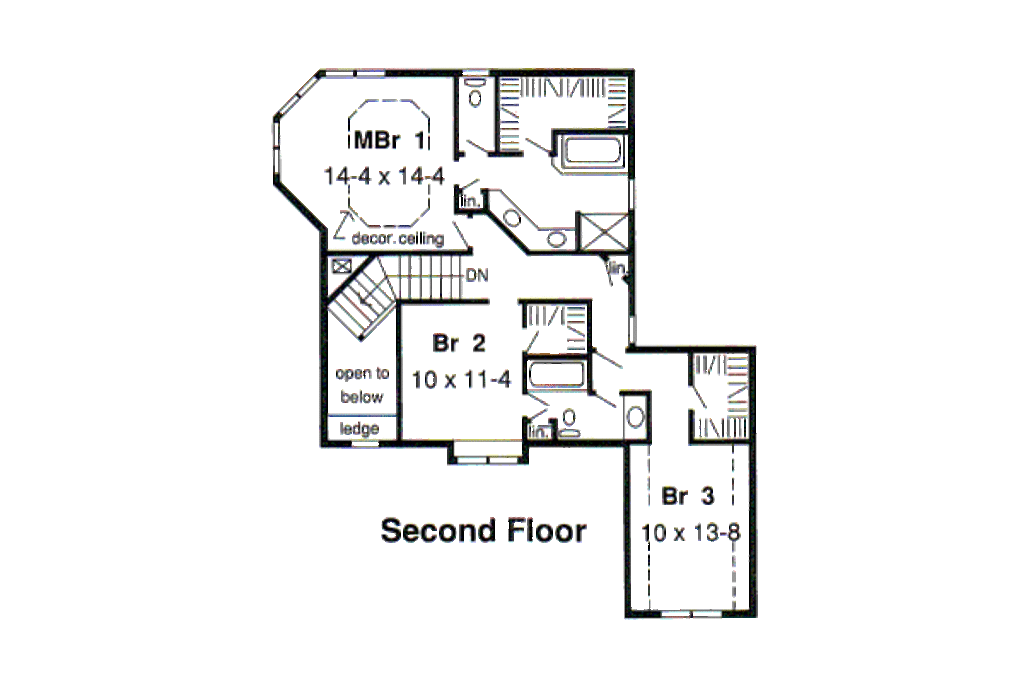large_sink: (556, 406, 598, 444), (460, 72, 491, 107)
small_sink: (489, 191, 579, 260), (615, 393, 651, 442)
stairs: (323, 253, 476, 341)
tub: (562, 126, 623, 185), (522, 354, 597, 397)
window: (651, 599, 723, 618), (448, 452, 520, 463), (338, 442, 386, 456)
